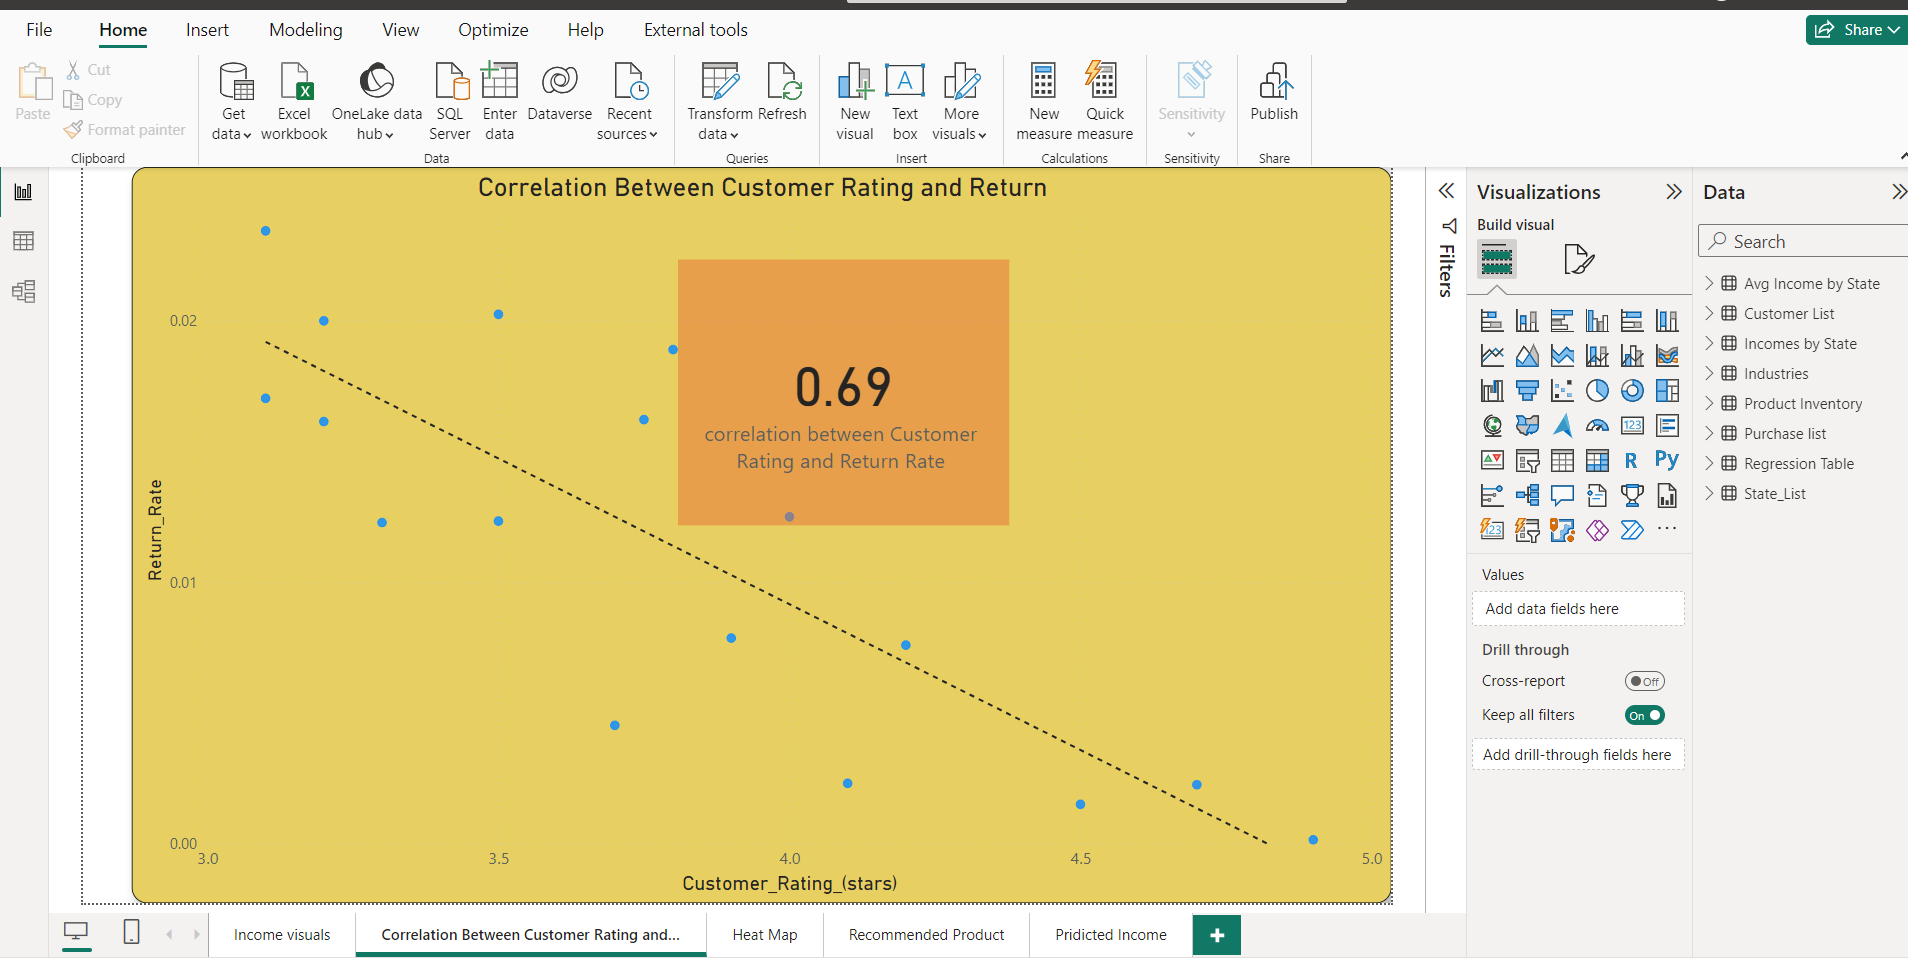

This screenshot's page, from the dashboard's own definition file:
{"tool":"powerbi","page":{"name":"Correlation Between Customer Rating and Return","canvas":[1280,720],"ordinal":1},"visuals":[{"type":"scatterChart","title":"Correlation Between Customer Rating and Return ","fields":{"X":["Product Inventory.Customer_Rating_(stars)"],"Y":["Product Inventory.Return_Rate"]},"box":[47.7,0,1232.2,720],"z":0},{"type":"card","fields":{"Values":["Product Inventory.Customer_Rating_(stars) and Return_Rate correlation for Return_Rate"]},"box":[581.9,90.5,323.9,260.4],"z":1000}]}

Visuals, with their boxes on the page's 1280x720 design canvas (x1, y1, x2, y2). These are canvas units, not pixel positions in the 1908x958 screenshot, which may show the page scaled, cropped or inside an application window:
"Correlation Between Customer Rating and Return " scatterChart: 48:0:1280:720
card - Product Inventory.Customer_Rating_(stars) and Return_Rate correlation for Return_Rate: 582:90:906:351
